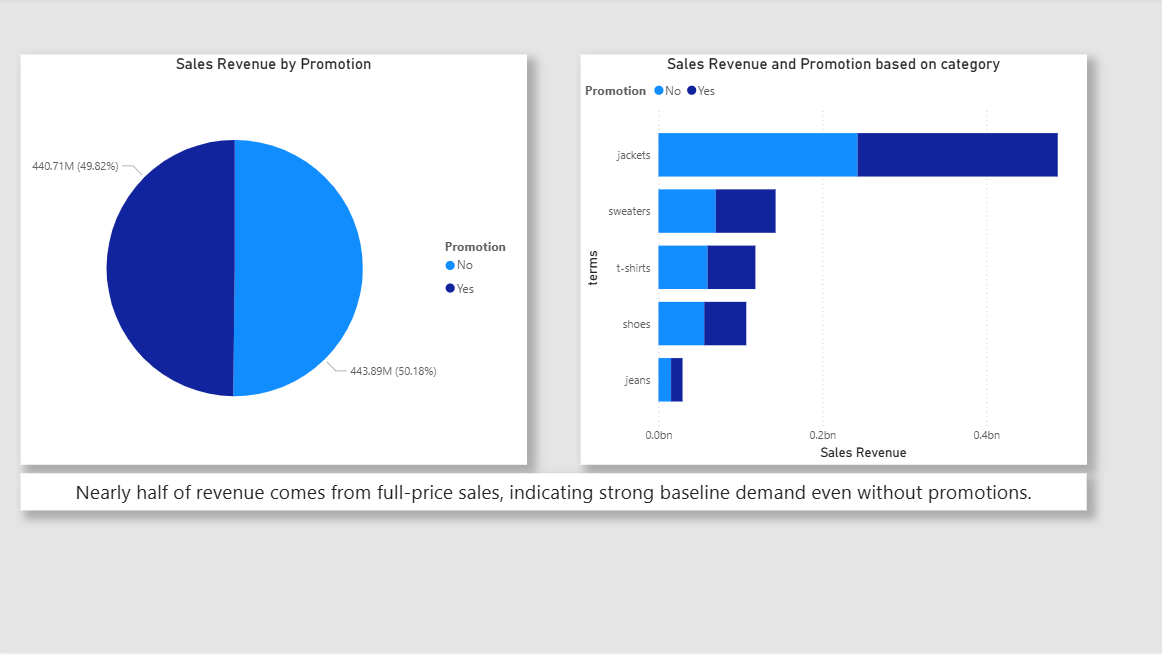

Layout of this report page (visuals, bound fields, positions):
{"tool":"powerbi","page":{"name":"PROMOTION INSIGHTS","canvas":[1280,720],"ordinal":1},"visuals":[{"type":"pieChart","fields":{"Category":["Business_sales_EDA.Promotion"],"Y":["MeasuresTable.Sales Revenue"]},"box":[24.7,63.1,555.7,450.1],"z":0},{"type":"barChart","title":"Sales Revenue and Promotion based on category","fields":{"Category":["Business_sales_EDA.terms"],"Y":["MeasuresTable.Sales Revenue"],"Series":["Business_sales_EDA.Promotion"]},"box":[639.5,63.1,555.7,450.1],"z":1000},{"type":"textbox","box":[24.7,522.8,1170.5,41.2],"z":2000}]}

Visuals, with their boxes in screenshot pixels (x1, y1, x2, y2), scaled from the page's 1280x720 canvas onto the 1162x655 screenshot:
pieChart - Business_sales_EDA.Promotion x MeasuresTable.Sales Revenue: {"x1": 22, "y1": 57, "x2": 527, "y2": 467}
"Sales Revenue and Promotion based on category" barChart: {"x1": 581, "y1": 57, "x2": 1085, "y2": 467}
textbox: {"x1": 22, "y1": 476, "x2": 1085, "y2": 513}
